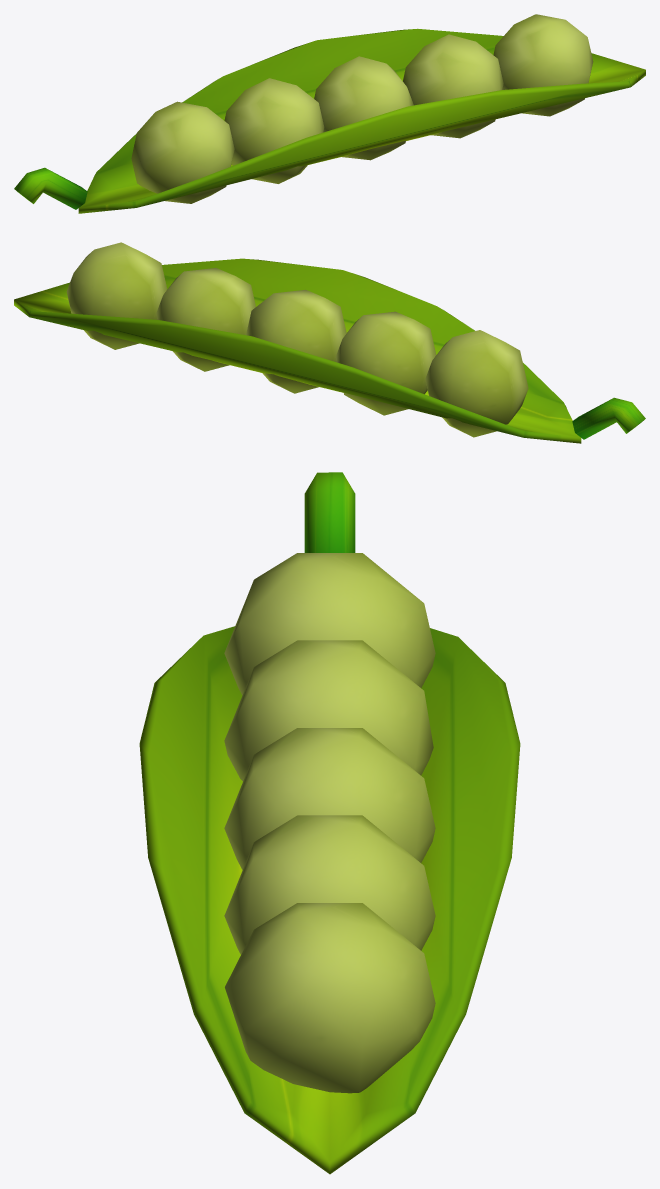
File: NP_Pea_OpenPod_LOD1.fbx
3 views of the same model, one above another, from view 1: azimuth 30°, elevation 25°; view 2: azimuth 150°, elevation 25°; view 3: azimuth 270°, elevation 25° (orthographic). The views are drawn at different scales.
Parts seen in each view (by area): view 1: NP_Pea_OpenPod.001; view 2: NP_Pea_OpenPod.001; view 3: NP_Pea_OpenPod.001.
Part boxes in pixels (x1,y1,x2,y2): NP_Pea_OpenPod.001: (14, 14, 645, 213); NP_Pea_OpenPod.001: (14, 242, 645, 443); NP_Pea_OpenPod.001: (139, 472, 520, 1174).
Size of the model in its own units: 34.36 by 4.97 by 9.01.
